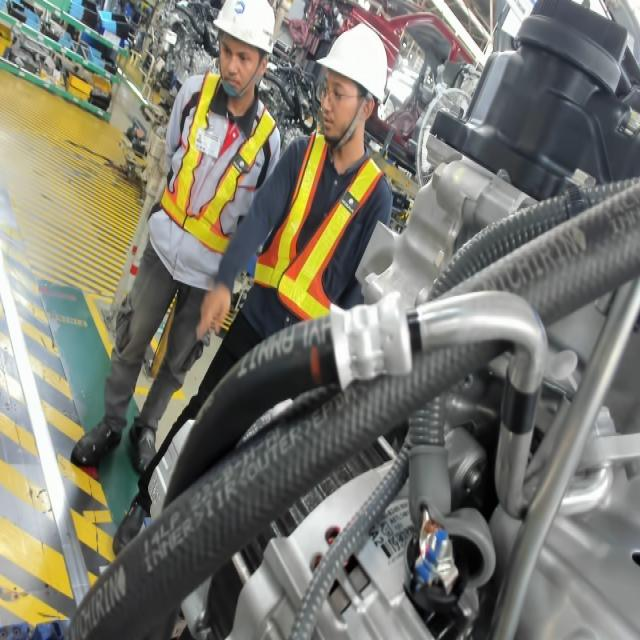Alternator-BA2: (369, 524, 392, 560)
Hose Discharge-HT: (499, 371, 545, 448)
